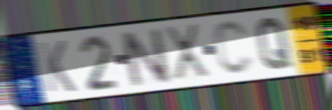2: (78, 33, 121, 93)
C: (211, 19, 256, 77)
K: (36, 39, 78, 95)
N: (118, 26, 174, 89)
Q: (255, 16, 294, 72)
X: (162, 22, 212, 82)
